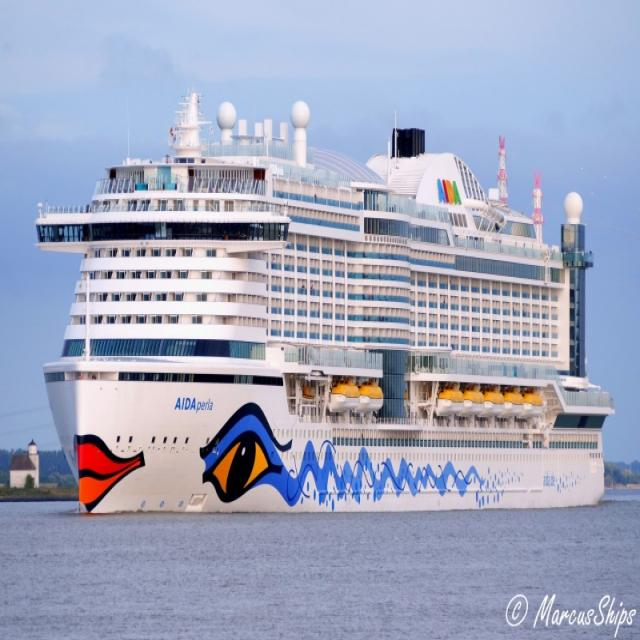cruises: (32, 84, 620, 525)
